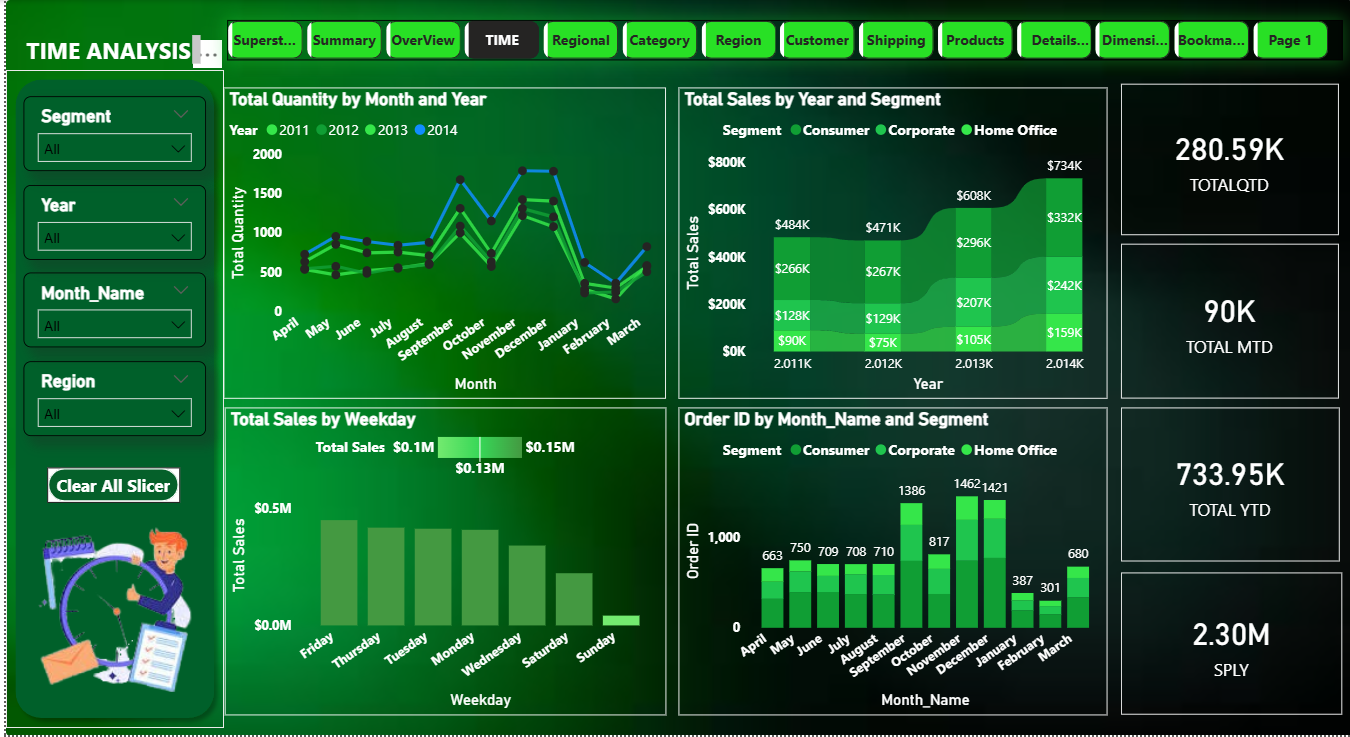

Layout of this report page (visuals, bound fields, positions):
{"tool":"powerbi","page":{"name":"TIME","canvas":[1280,700],"ordinal":3},"visuals":[{"type":"image","box":[0,0,1280.4,700.2],"z":0},{"type":"shape","box":[0,66.6,206.9,625.3],"z":1000},{"type":"textbox","box":[26.2,83.2,108.2,44],"z":2000},{"type":"textbox","box":[13.1,28.5,177.1,38],"z":3000},{"type":"slicer","fields":{"Values":["Superstore.Segment"]},"box":[16.6,91.5,173.6,71.3],"z":4000},{"type":"slicer","fields":{"Values":["date_table.Month_Name"]},"box":[16.6,259.6,173.6,71.3],"z":5000},{"type":"slicer","fields":{"Values":["date_table.Year"]},"box":[16.6,175.6,173.6,71.3],"z":6000},{"type":"slicer","fields":{"Values":["Superstore.Region"]},"box":[16.6,343.6,173.6,71.3],"z":7000},{"type":"shape","box":[39.2,444.6,126,33.3],"z":8000},{"type":"ribbonChart","fields":{"Category":["date_table.Year"],"Series":["Superstore.Segment"],"Y":["All measures.Total Sales"]},"box":[639.6,83.2,407.8,296],"z":9000},{"type":"lineChart","fields":{"Category":["date_table.Month_Name"],"Series":["date_table.Year"],"Y":["Sum(Superstore.Quantity)"]},"box":[206.9,83.2,420.9,296],"z":10000},{"type":"columnChart","fields":{"Category":["date_table.Month_Name"],"Series":["Superstore.Segment"],"Y":["CountNonNull(Superstore.Order ID)"]},"box":[639.6,387.6,407.8,292.5],"z":11000},{"type":"columnChart","fields":{"Category":["date_table.Weekday"],"Y":["All measures.Total Sales"]},"box":[208.1,387.6,419.7,292.5],"z":12000},{"type":"card","fields":{"Values":["All measures.TOTALQTD"]},"box":[1060.5,79.7,206.9,143.9],"z":13000},{"type":"card","fields":{"Values":["All measures.TOTAL MTD"]},"box":[1060.5,231.8,206.9,147.4],"z":14000},{"type":"card","fields":{"Values":["All measures.TOTAL YTD"]},"box":[1060.5,387.6,208.1,146.2],"z":15000},{"type":"card","fields":{"Values":["All measures.SPLY"]},"box":[1060.5,544.5,210.4,135.5],"z":16000},{"type":"image","box":[16.6,496.9,173.6,165.3],"z":17000},{"type":"pageNavigator","box":[210.4,19,1060.5,38],"z":18000}]}

Visuals, with their boxes in screenshot pixels (x1, y1, x2, y2), scaled from the page's 1280x700 canvas onto the 1350x737 screenshot:
image: [left=0, top=0, right=1349, bottom=736]
shape: [left=0, top=70, right=218, bottom=728]
textbox: [left=28, top=88, right=142, bottom=134]
textbox: [left=14, top=30, right=201, bottom=70]
slicer - Superstore.Segment: [left=18, top=96, right=201, bottom=171]
slicer - date_table.Month_Name: [left=18, top=273, right=201, bottom=348]
slicer - date_table.Year: [left=18, top=185, right=201, bottom=260]
slicer - Superstore.Region: [left=18, top=362, right=201, bottom=437]
shape: [left=41, top=468, right=174, bottom=503]
ribbonChart - date_table.Year x Superstore.Segment: [left=675, top=88, right=1105, bottom=399]
lineChart - date_table.Month_Name x date_table.Year: [left=218, top=88, right=662, bottom=399]
columnChart - date_table.Month_Name x Superstore.Segment: [left=675, top=408, right=1105, bottom=716]
columnChart - date_table.Weekday x All measures.Total Sales: [left=219, top=408, right=662, bottom=716]
card - All measures.TOTALQTD: [left=1118, top=84, right=1337, bottom=235]
card - All measures.TOTAL MTD: [left=1118, top=244, right=1337, bottom=399]
card - All measures.TOTAL YTD: [left=1118, top=408, right=1338, bottom=562]
card - All measures.SPLY: [left=1118, top=573, right=1340, bottom=716]
image: [left=18, top=523, right=201, bottom=697]
pageNavigator: [left=222, top=20, right=1340, bottom=60]
